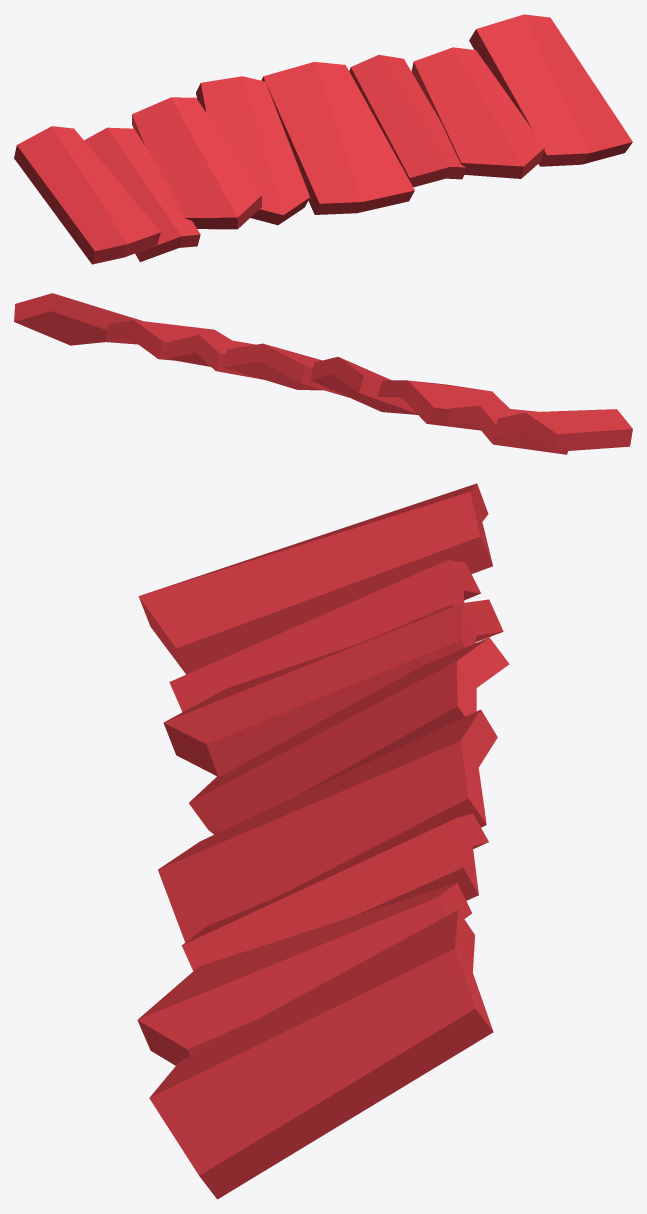
File: Roof 01 Finish Bottom.fbx
3 views of the same model, one above another, from view 1: azimuth 30°, elevation 25°; view 2: azimuth 150°, elevation 25°; view 3: azimuth 270°, elevation 25° (orthographic). The views are drawn at different scales.
Parts seen in each view (by area): view 1: Roof 01 Finish Bottom; view 2: Roof 01 Finish Bottom; view 3: Roof 01 Finish Bottom.
Boxes of the visible parts, x1,y1,x2,y2 form: Roof 01 Finish Bottom: [14, 14, 632, 264]; Roof 01 Finish Bottom: [14, 293, 632, 454]; Roof 01 Finish Bottom: [137, 483, 509, 1199].
Bounding box in the file's own units: 422 × 82.46 × 125.
